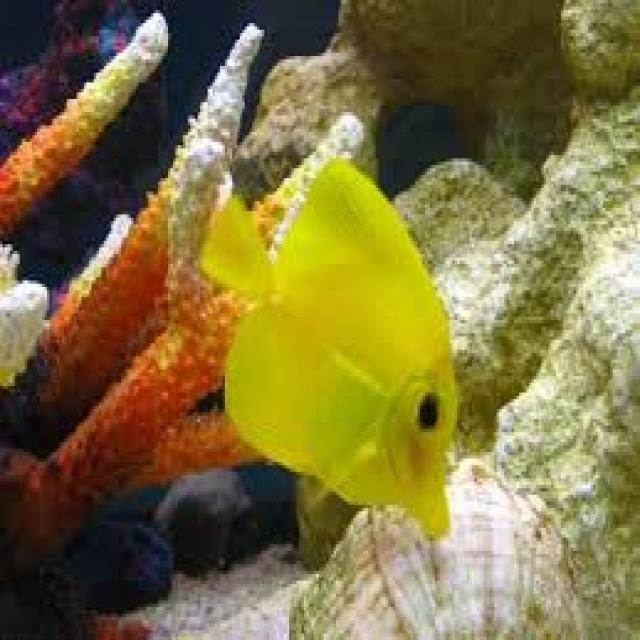YellowTang: (188, 152, 483, 558)
